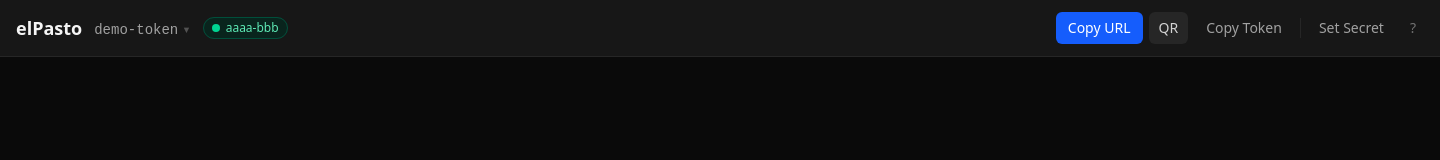
Test case: SessionHeader › opening one dropdown closes the other
Open session menu
Click the button with aria-label "Session menu": x=142, y=30 [94,20,191,40]
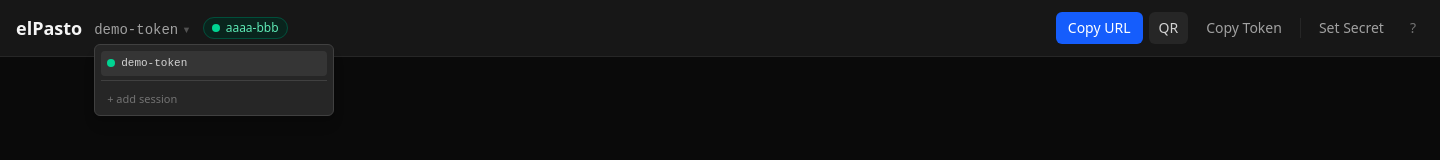
Expected: the menu is shown, [94,44,334,116]
Open peer menu — session menu should close
Click the button with aria-label "Connection status": x=245, y=28 [203,17,288,39]
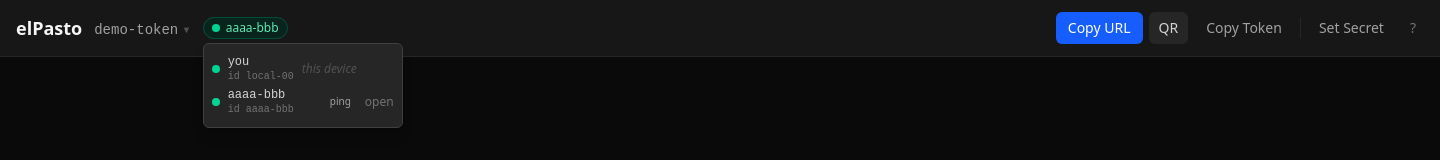
Expected: the menu is gone
Expected: the text "id aaaa-bbb" is shown, [228,103,294,117]
Open session menu again — peer list should close
Click the button with aria-label "Session menu": x=142, y=30 [94,20,191,40]
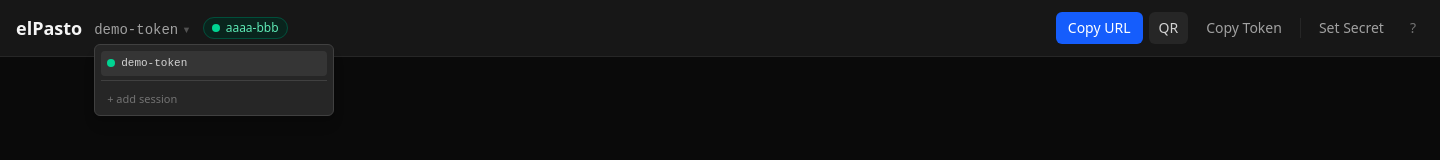
Expected: the button "id aaaa-bbb" is gone
Expected: the menu is shown, [94,44,334,116]
